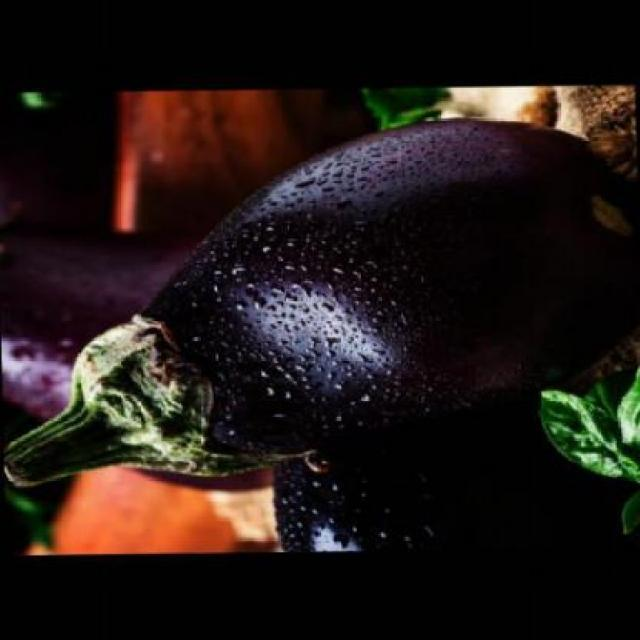eggplant: (0, 115, 638, 490), (0, 207, 272, 495)
